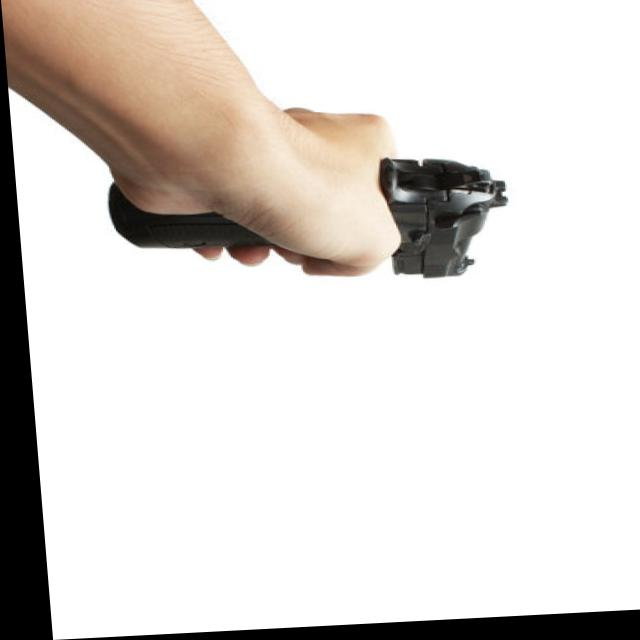handgun: (107, 155, 515, 297)
